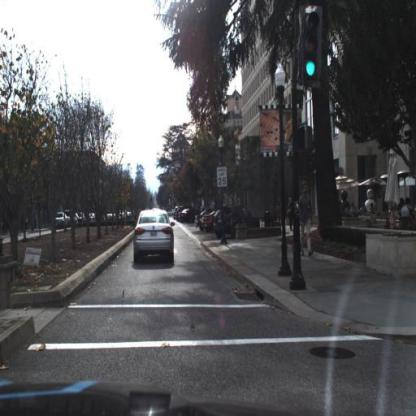car: (130, 202, 179, 270), (214, 205, 255, 241), (179, 207, 198, 225), (202, 209, 214, 233), (52, 212, 66, 228)
pedestrian: (298, 181, 313, 257), (274, 197, 284, 230), (288, 196, 296, 231), (42, 208, 50, 229), (360, 200, 368, 218), (32, 209, 37, 233), (344, 201, 351, 213), (39, 212, 44, 228), (351, 201, 355, 214)
